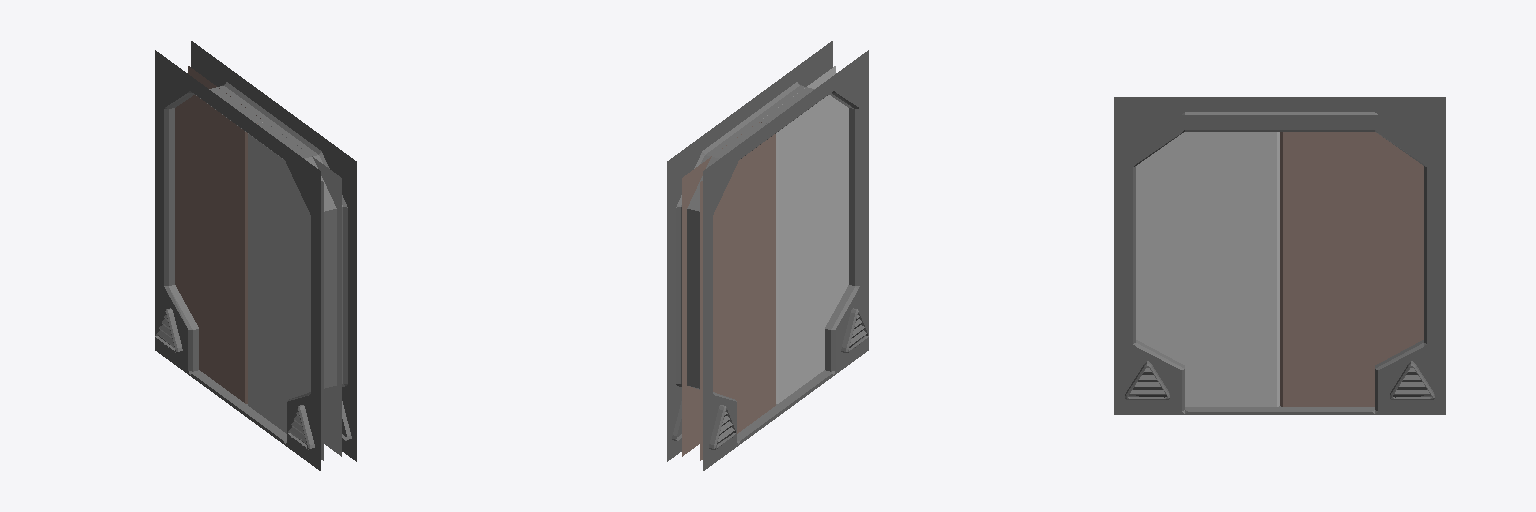
The model's file is interior_door.obj.
The picture shows the model from 3 angles: view 1: azimuth 30°, elevation 25°; view 2: azimuth 150°, elevation 25°; view 3: azimuth 270°, elevation 25°; orthographic projection.
Parts seen in each view (by area): view 1: Door_Frame, Door_Left, Door_Right; view 2: Door_Frame, Door_Right, Door_Left; view 3: Door_Right, Door_Left, Door_Frame.
Boxes of the visible parts, x1=… form: Door_Frame: x1=155, y1=41, x2=356, y2=470; Door_Left: x1=248, y1=122, x2=341, y2=460; Door_Right: x1=175, y1=66, x2=260, y2=403; Door_Frame: x1=667, y1=41, x2=868, y2=470; Door_Right: x1=682, y1=122, x2=775, y2=460; Door_Left: x1=763, y1=66, x2=848, y2=403; Door_Right: x1=1280, y1=132, x2=1423, y2=406; Door_Left: x1=1136, y1=132, x2=1279, y2=406; Door_Frame: x1=1114, y1=97, x2=1445, y2=414.
Size of the model in its own units: 0.6838 by 4 by 4.